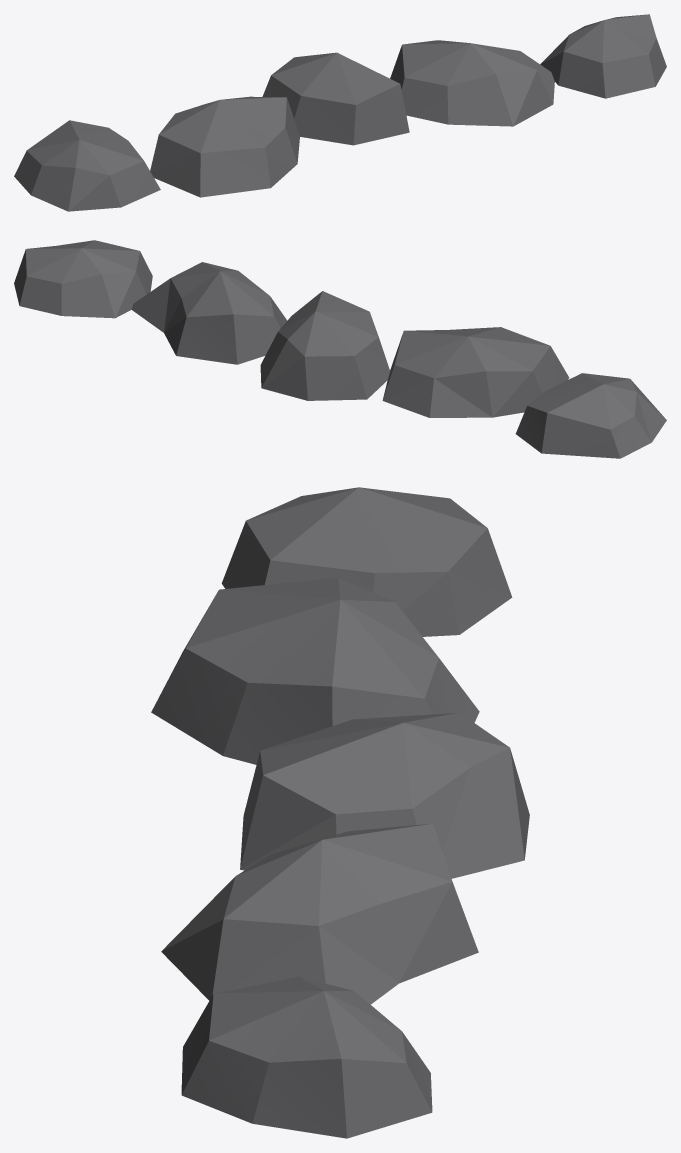
File: Piedras_03.glb
3 renders of one model, top to bottom at view 1: azimuth 30°, elevation 25°; view 2: azimuth 150°, elevation 25°; view 3: azimuth 270°, elevation 25°, orthographic. The views are drawn at different scales.
Visible parts, largest first — view 1: SM_Env_Path_Rocks_Side_01_1; view 2: SM_Env_Path_Rocks_Side_01_1; view 3: SM_Env_Path_Rocks_Side_01_1.
Part boxes in pixels (left/top/right/bottom): SM_Env_Path_Rocks_Side_01_1: left=14, top=14, right=666, bottom=211; SM_Env_Path_Rocks_Side_01_1: left=14, top=240, right=666, bottom=458; SM_Env_Path_Rocks_Side_01_1: left=151, top=487, right=529, bottom=1138.
Size of the model in its own units: 3 by 0.2665 by 0.7896.
1 material, 1 textured.
